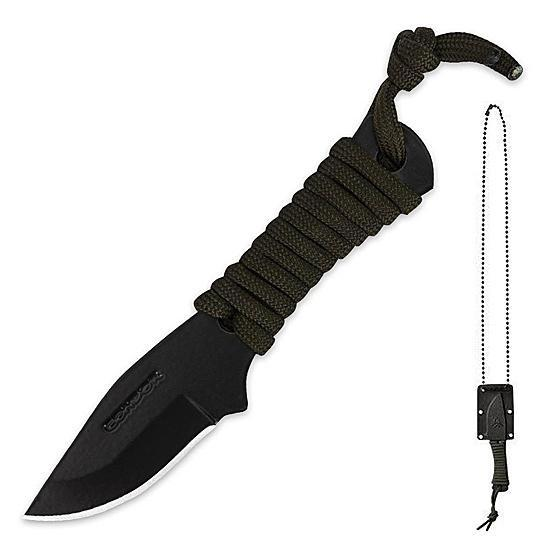knief: (23, 105, 432, 528)
